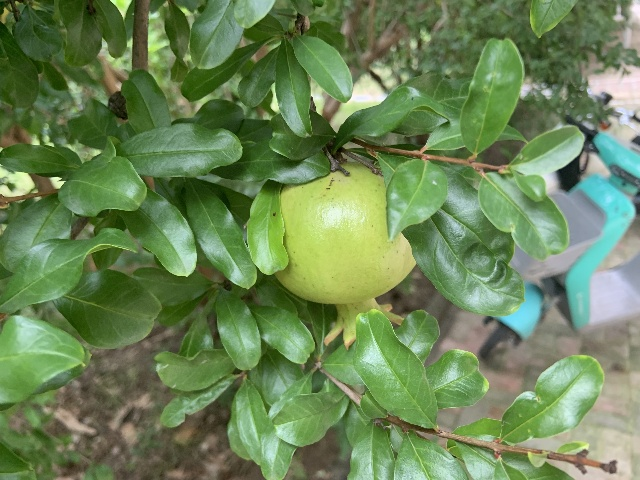mid-growth: (274, 161, 416, 350)
